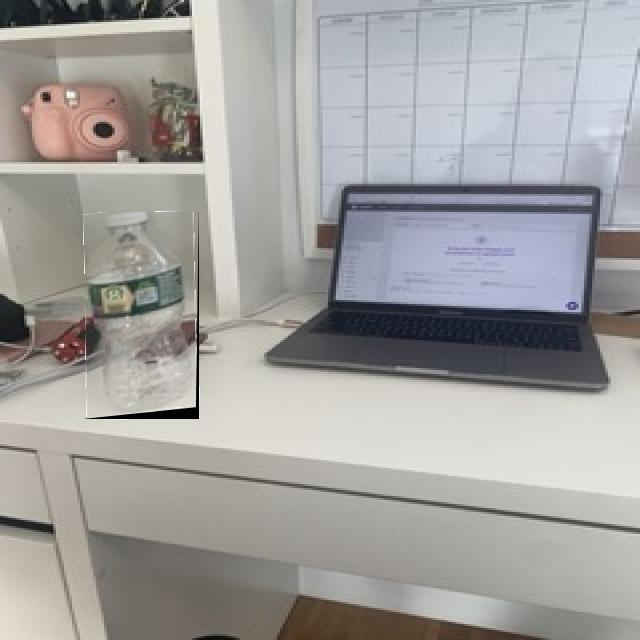water_bottle: (85, 212, 199, 419)
